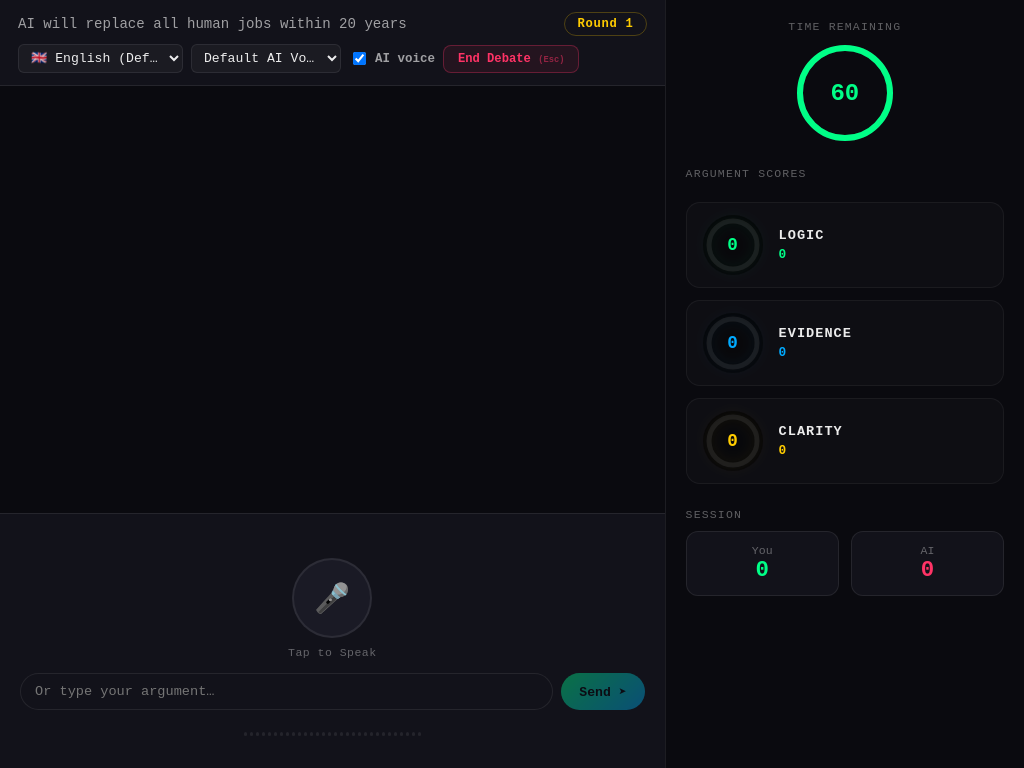
Test: DebateRoomPage topbar controls and end-debate score display › shows calculating state on End Debate click and displays score immediately when judge_verdict arrives
The image size is (1024, 768).
Later steps or results of the test are not shown.
Click the button "End Debate (Esc)". click: (511, 58)
box: [443,44,579,72]
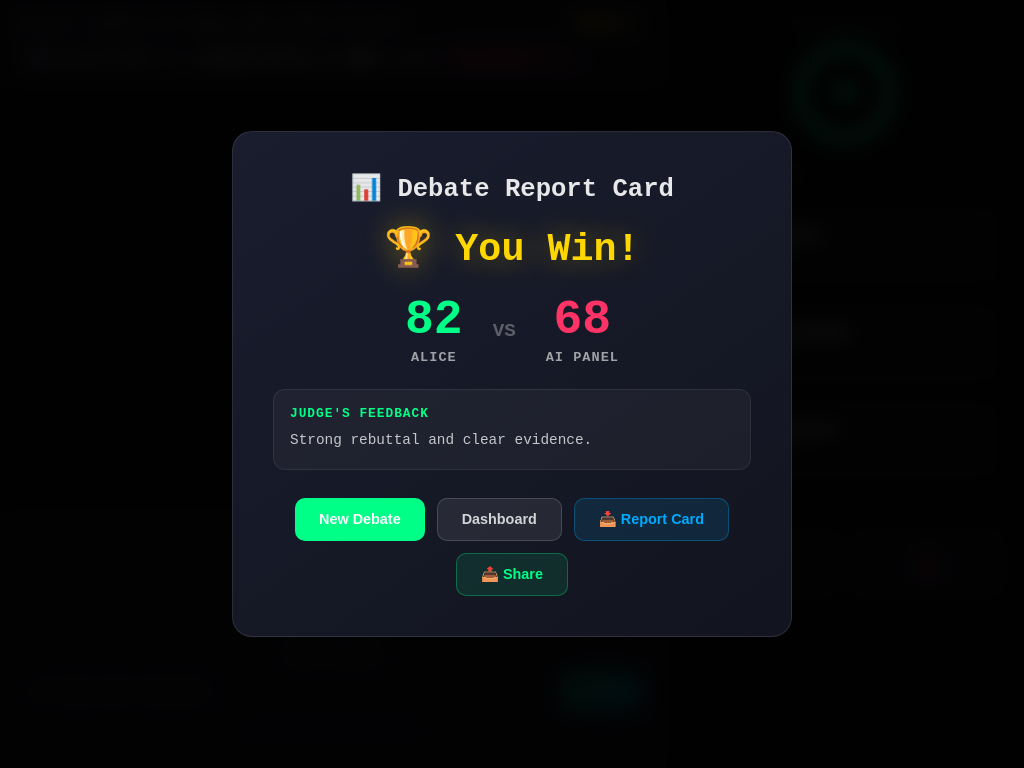
Check: the text "📊 Debate Report Card" is shown, box [350,176,674,204]
Check: the text "82" is shown, box [405,296,463,344]
Check: the text "68" is shown, box [554,296,611,344]
